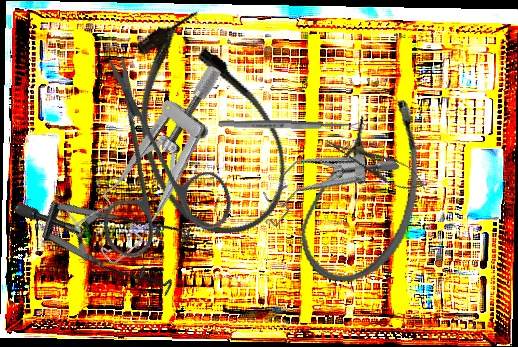Cannula: (102, 0, 308, 255), (291, 83, 436, 295)
Iris Scissors: (33, 51, 272, 290)
Needle Holder: (319, 129, 432, 199)
Speculum: (49, 60, 272, 271), (11, 127, 215, 337), (247, 109, 402, 264)
Surgical Spoon: (218, 119, 365, 131)
